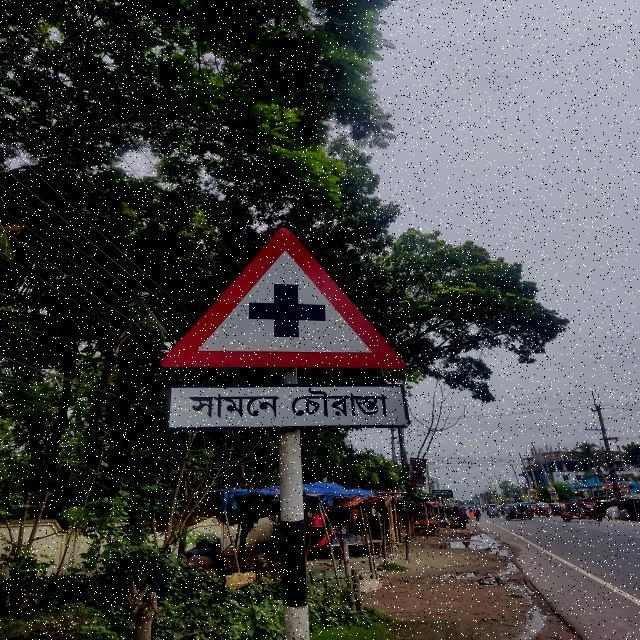Crossroads-ahead: (152, 213, 420, 444)
